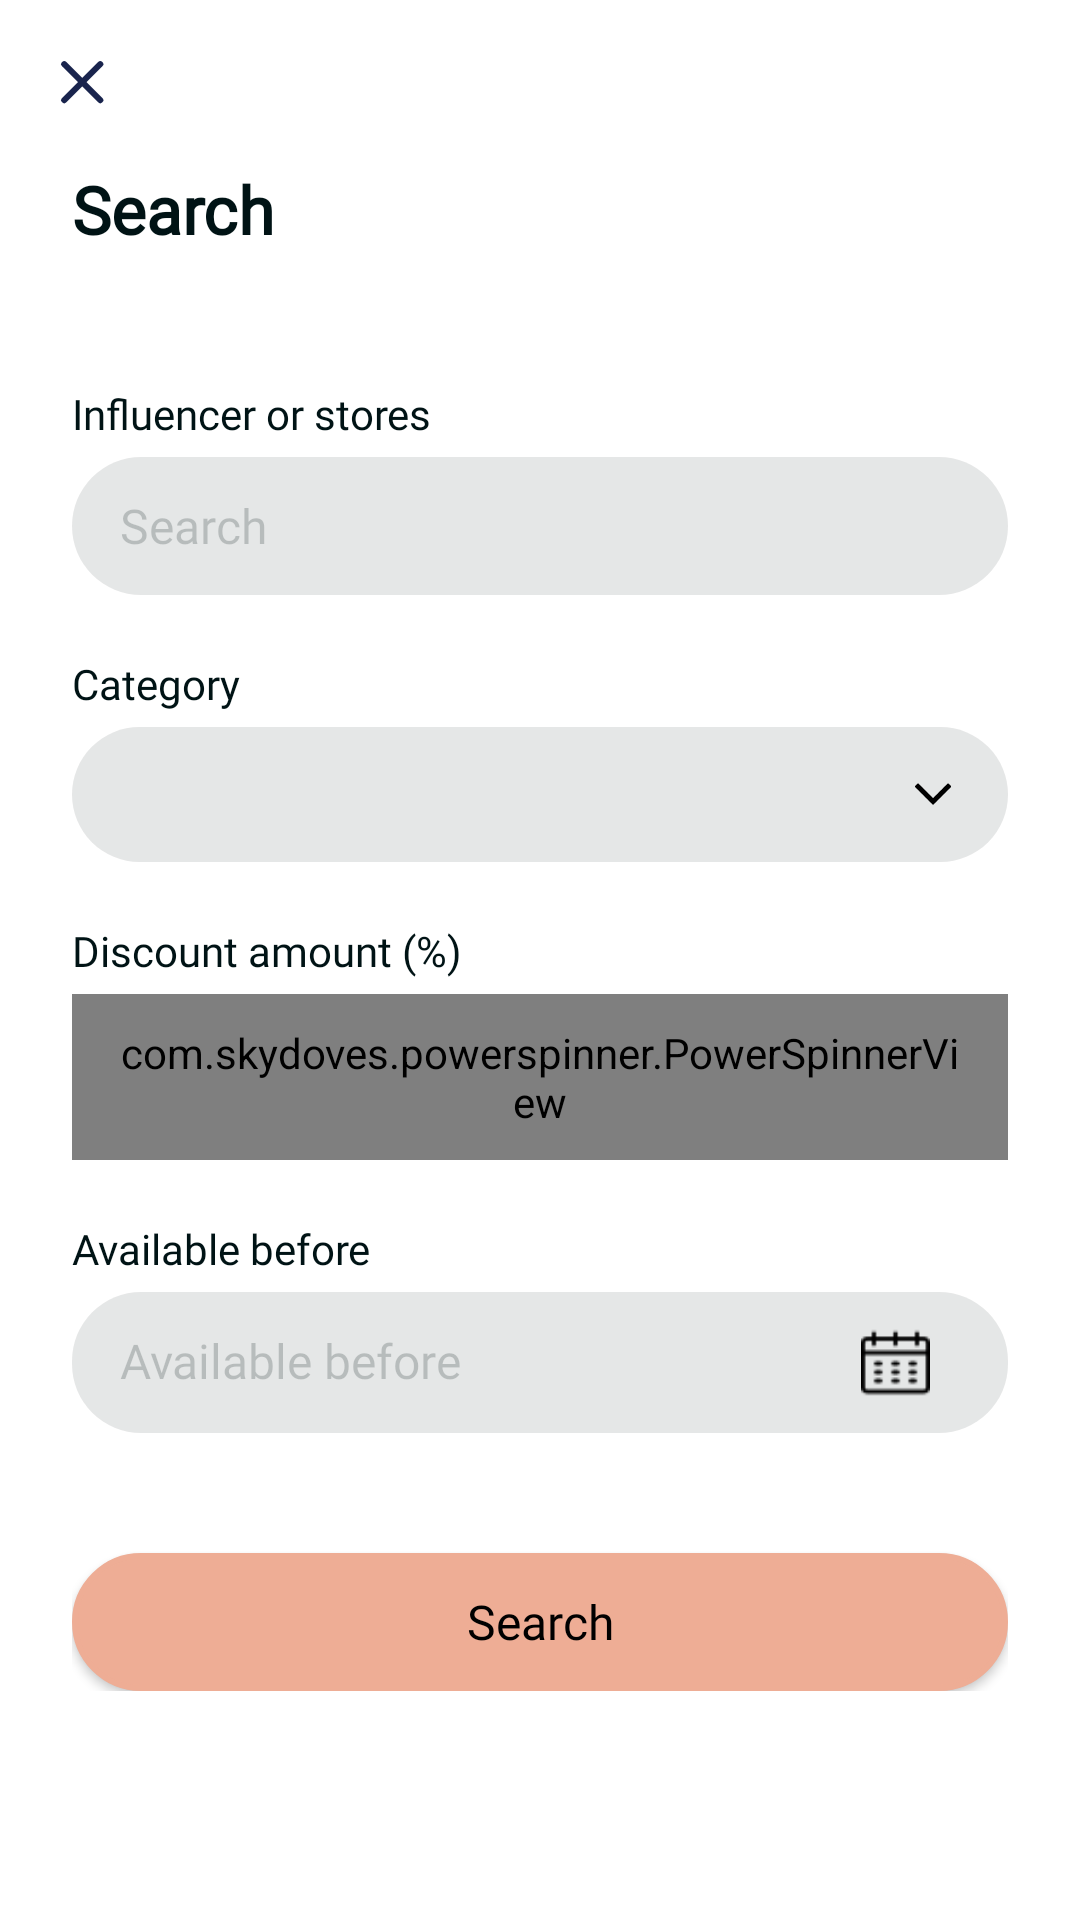

Named icons in this screenshot (1080px×1920px) and their centers, (x,y):
arrows: (933,794)
calendar: (895,1362)
close: (82,82)
